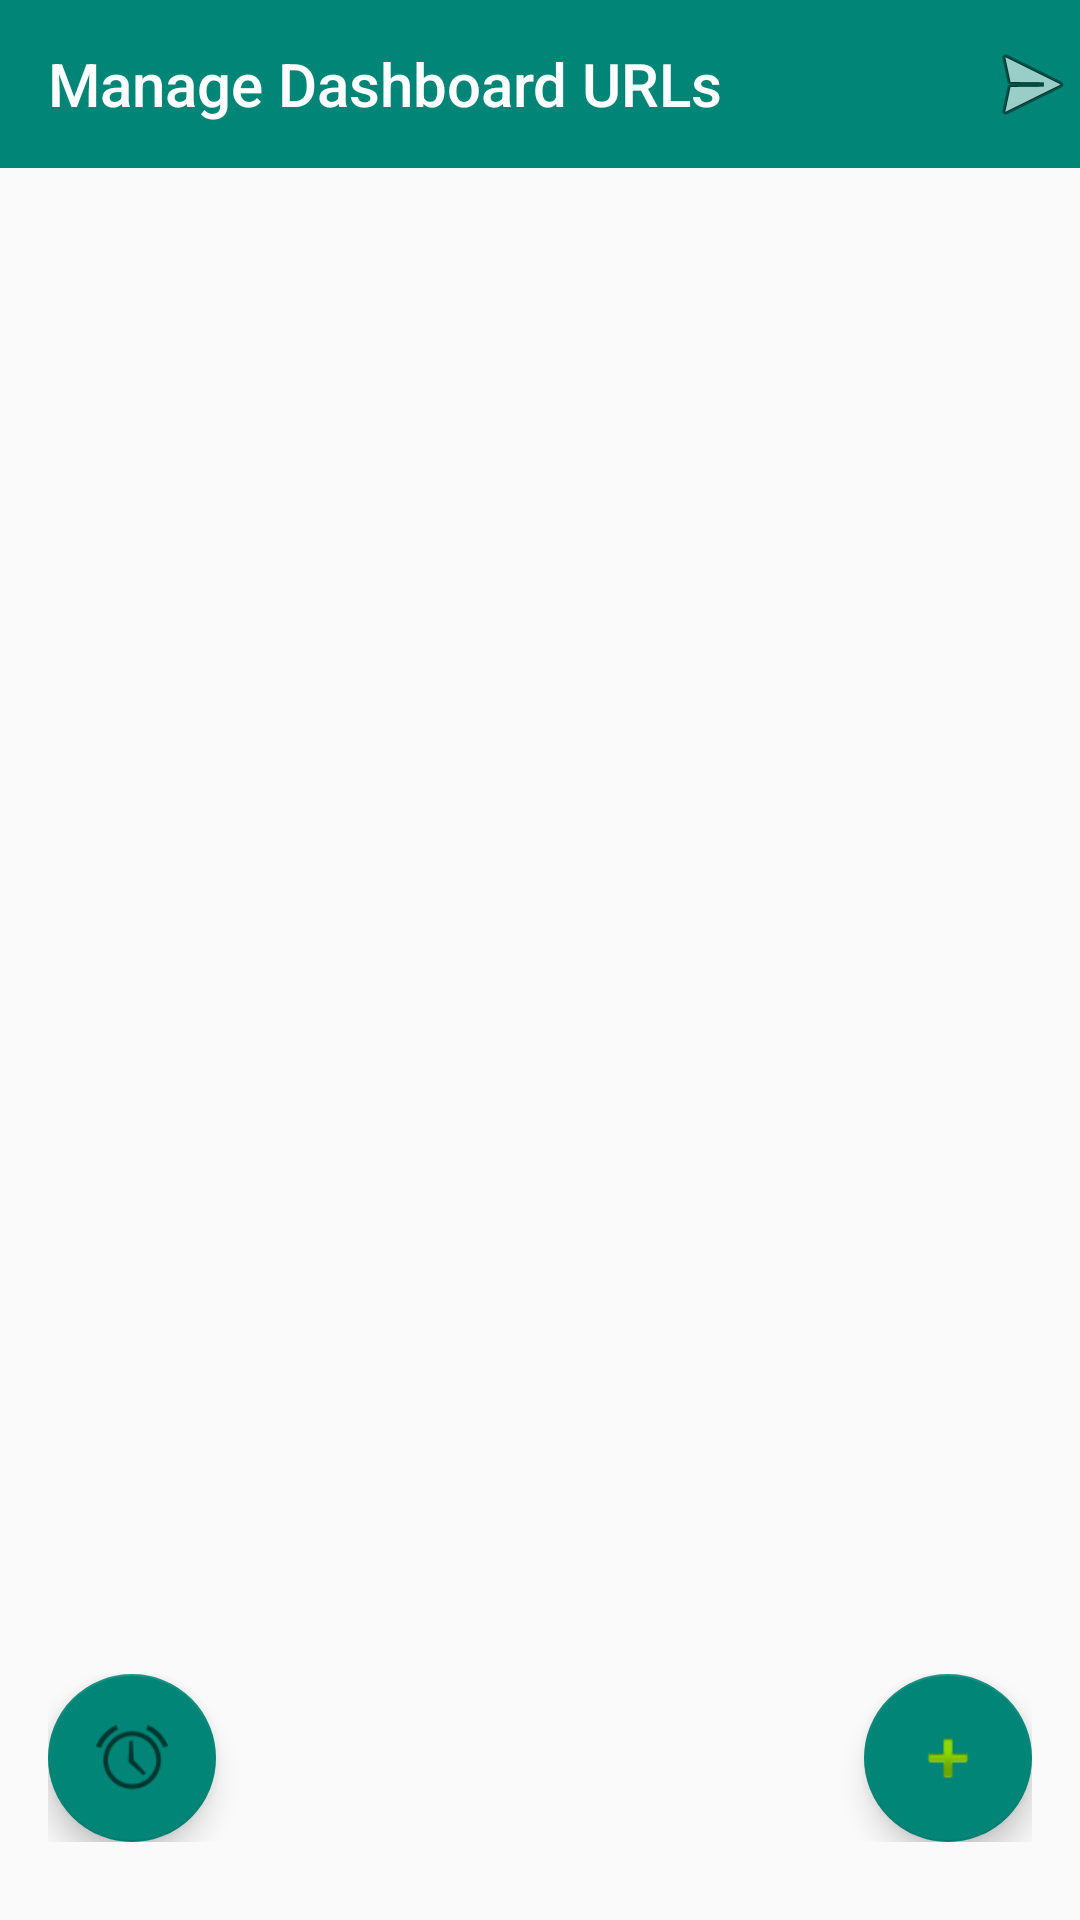

Icons on this 1080×1920 Android screen, each with its box as detection(x1, y1, x2, y2):
add: detection(864, 1674, 1032, 1842)
lock idle alarm: detection(48, 1674, 216, 1842)
send: detection(1002, 54, 1063, 115)
